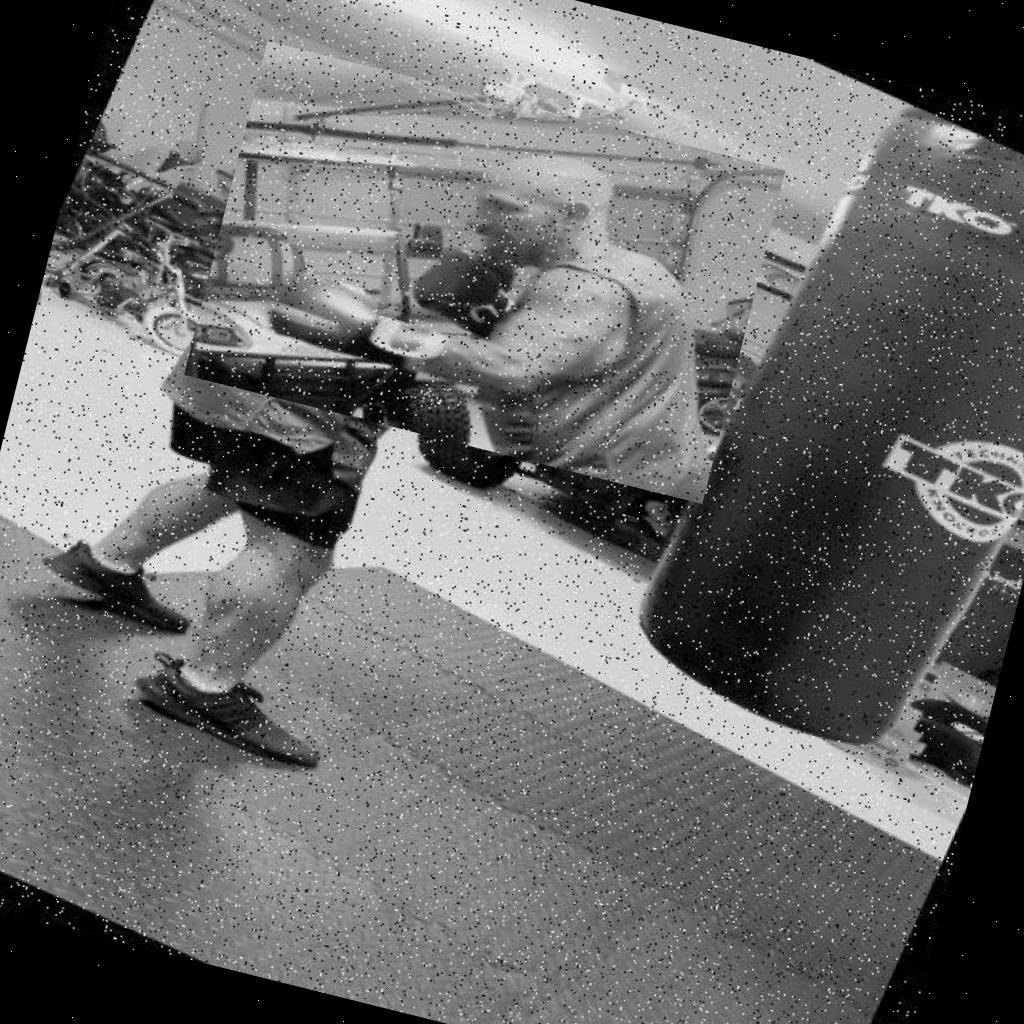cross: (184, 41, 785, 504)
